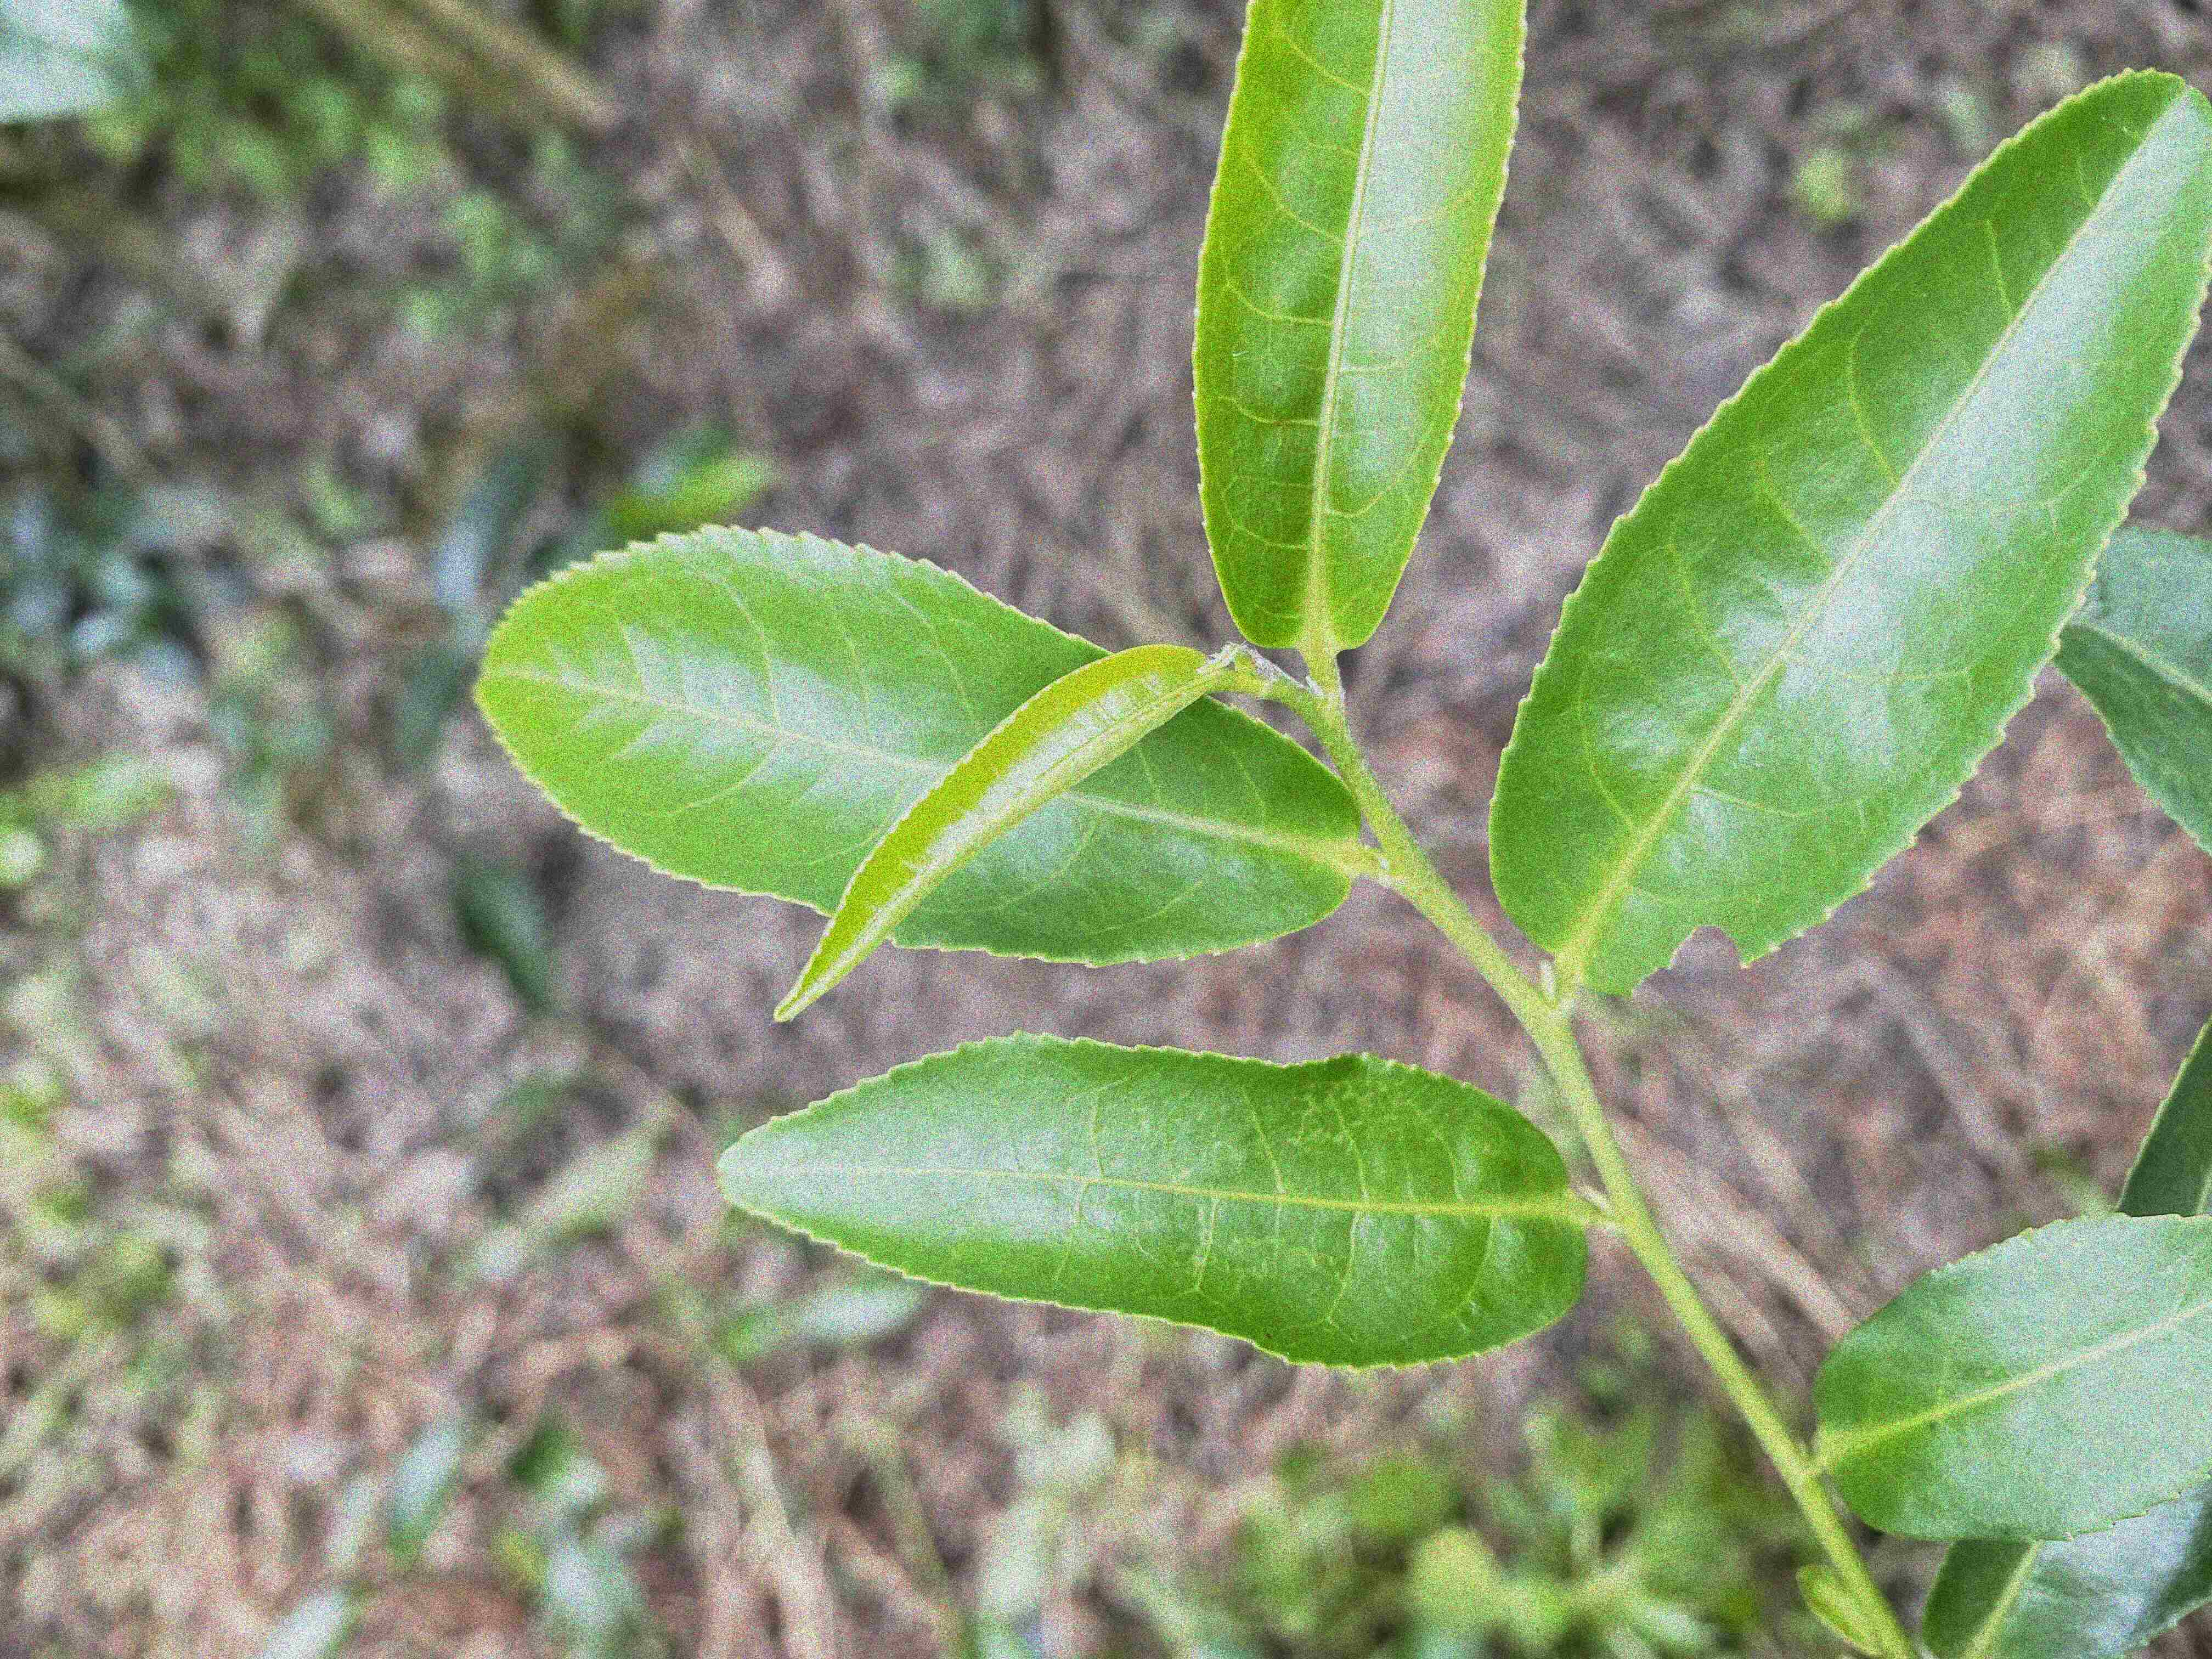chihuo_low: (1486, 66, 2212, 1000)
healthy: (474, 521, 1364, 971), (711, 1028, 1592, 1368), (1190, 3, 1531, 653), (772, 645, 1223, 1026), (1806, 1211, 2210, 1542)
